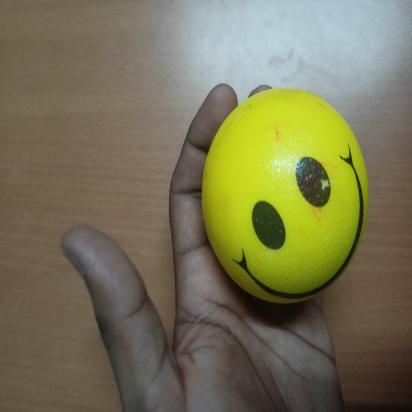Yellowball: (199, 84, 378, 305)
